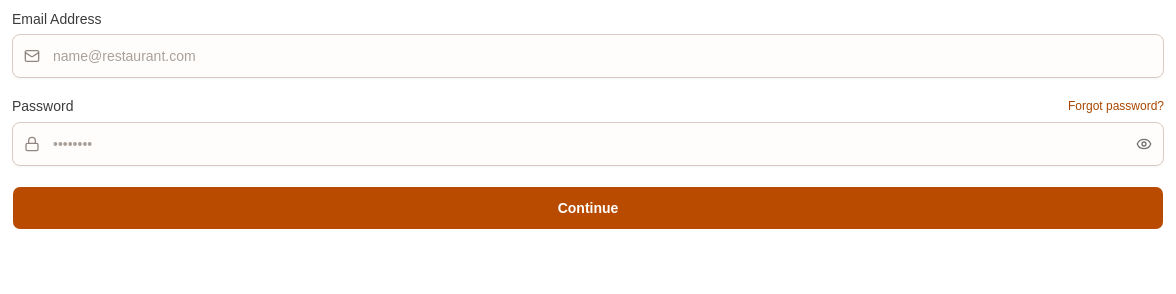
StaffLoginForm UI Testing › shows validation errors when fields are empty
Click the button "Continue" at [588, 208], box [12, 186, 1164, 230]
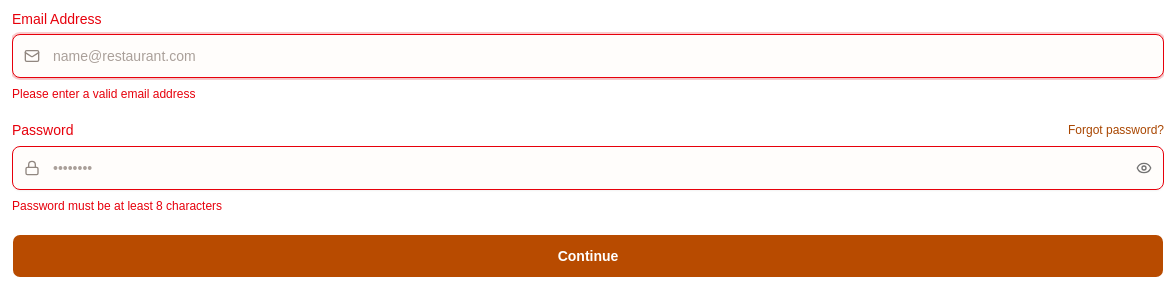
Expected: the message "Please enter a valid email address" is shown, [12, 87, 195, 101]
